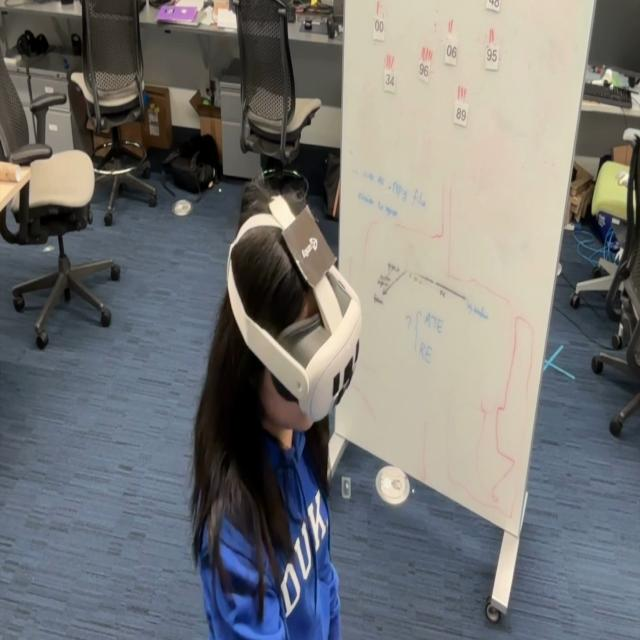Headset: (225, 194, 363, 423)
UnityLogo: (282, 216, 334, 290)
